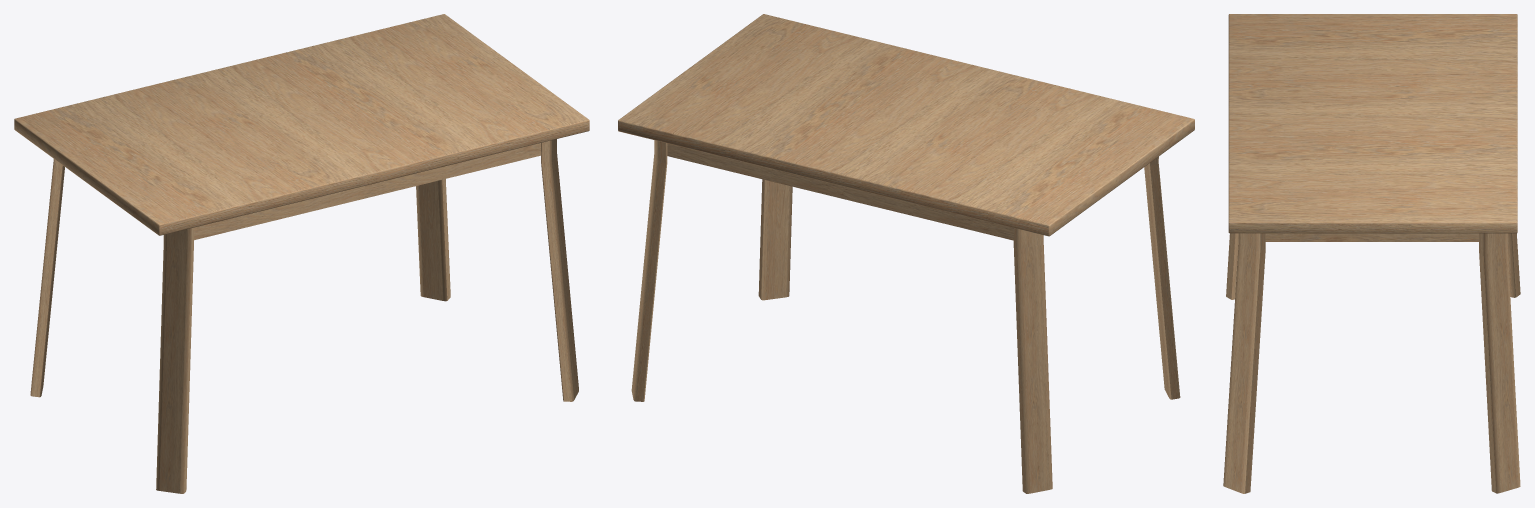
Rendered from table.fbx.
3 renders of one model, left to right at view 1: azimuth 30°, elevation 25°; view 2: azimuth 150°, elevation 25°; view 3: azimuth 270°, elevation 25°, orthographic.
Parts seen in each view (by area): view 1: Top, Leg:4, Under, Leg:2, Leg:1, Leg:3; view 2: Top, Leg:3, Under, Leg:1, Leg:4, Leg:2; view 3: Top, Leg:1, Leg:2, Under, Leg:3, Leg:4.
Boxes of the visible parts, x1,y1,x2,y2 form: Top: [14, 14, 589, 235]; Leg:4: [156, 227, 193, 493]; Under: [194, 143, 540, 240]; Leg:2: [541, 139, 578, 401]; Leg:1: [416, 179, 450, 301]; Leg:3: [30, 159, 64, 397]; Top: [618, 14, 1194, 236]; Leg:3: [1013, 228, 1052, 493]; Under: [667, 143, 1013, 240]; Leg:1: [631, 140, 667, 401]; Leg:4: [1144, 156, 1180, 399]; Leg:2: [758, 179, 792, 300]; Top: [1228, 14, 1517, 233]; Leg:1: [1479, 233, 1520, 493]; Leg:2: [1223, 233, 1265, 493]; Under: [1265, 233, 1478, 241]; Leg:3: [1507, 233, 1520, 297]; Leg:4: [1226, 233, 1238, 299].
Size of the model in its own units: 39602 by 24219 by 23812.
3 materials, 3 textured.
